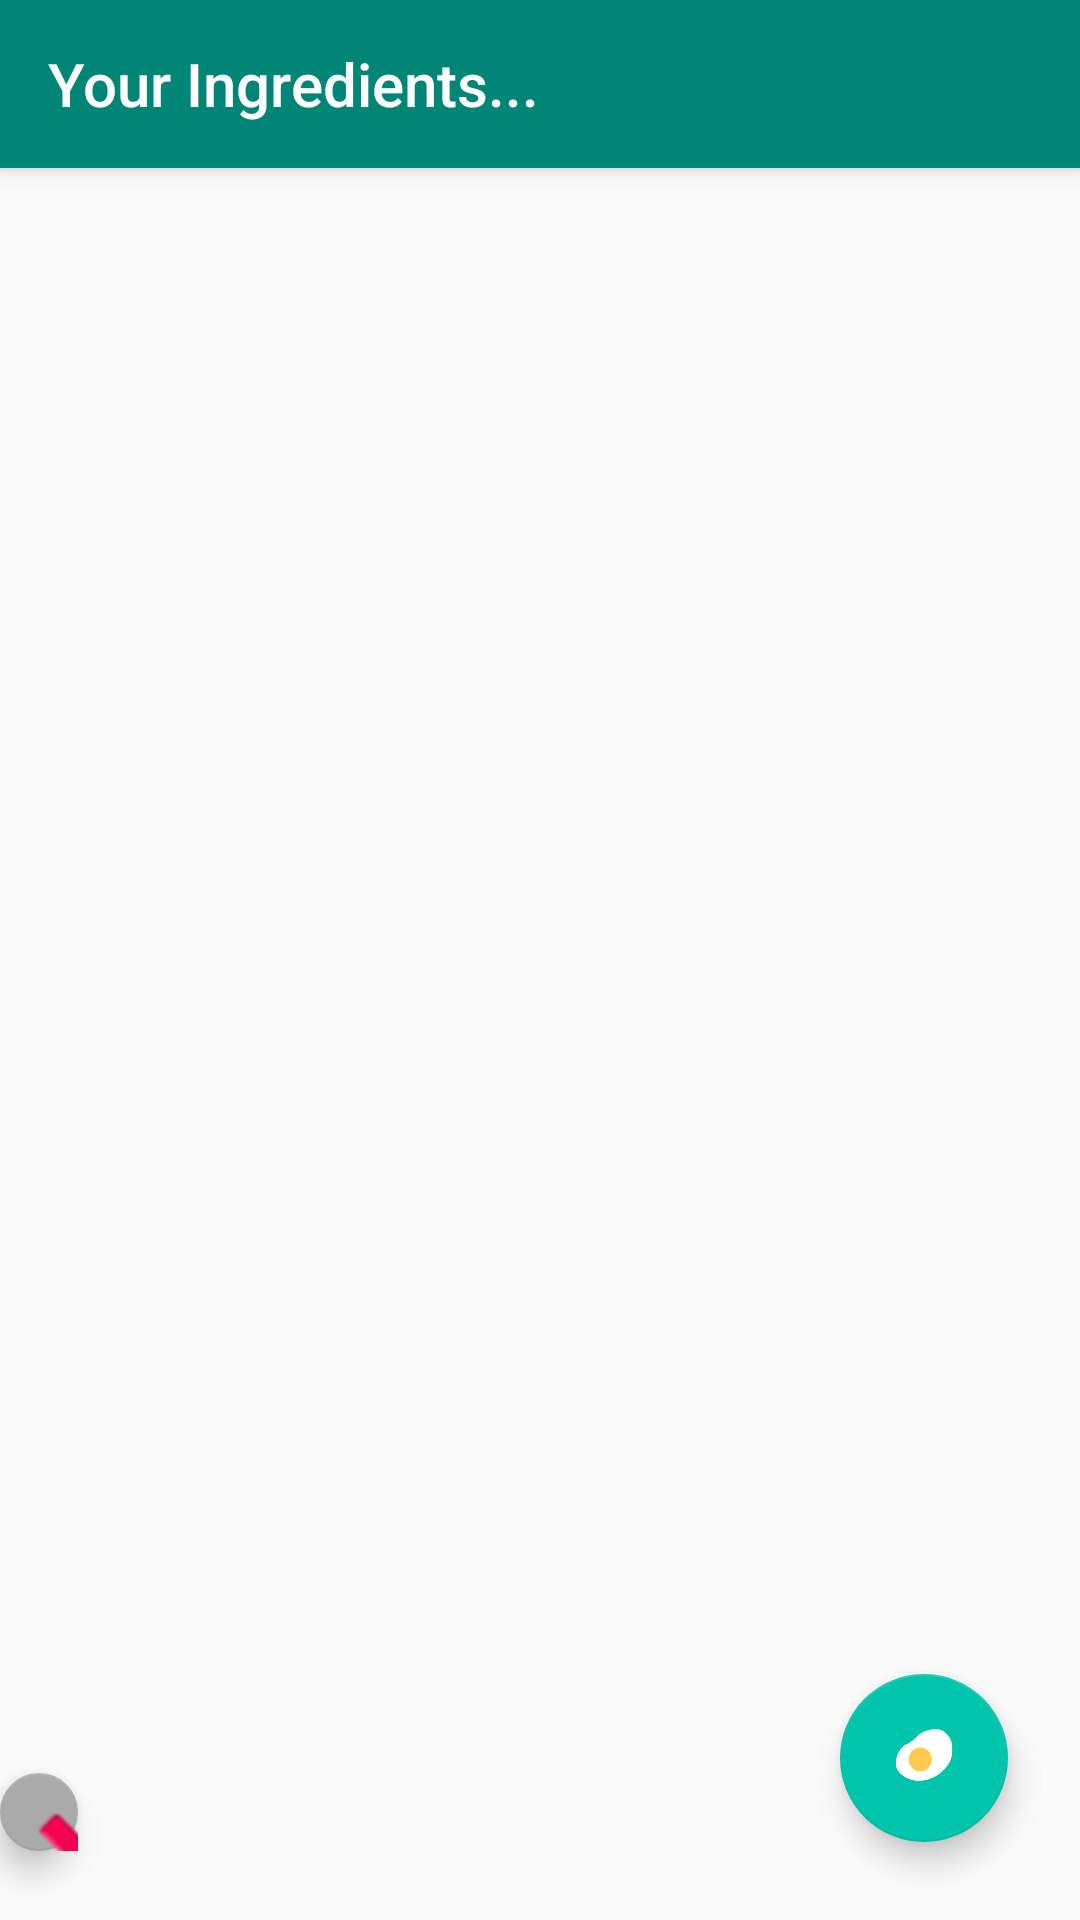

Icon bounding boxes for this 1080px x 1920px phone screenshot, format (x1, y1, x2, y2):
tamagoicon: (840, 1674, 1008, 1842)
